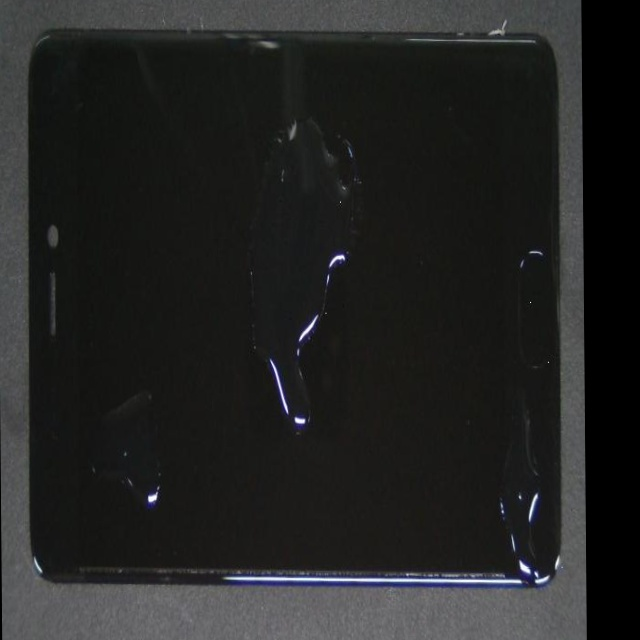oil: (296, 180, 585, 431), (15, 209, 160, 640), (169, 0, 433, 193)
